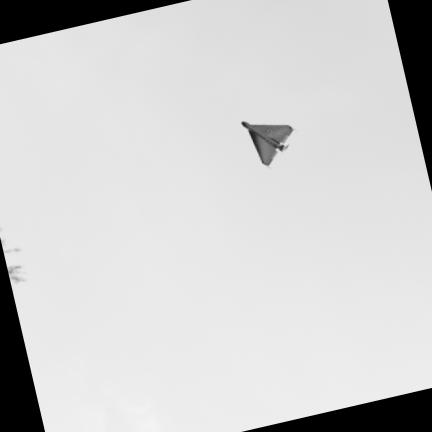Shahed: (242, 123, 293, 166)
